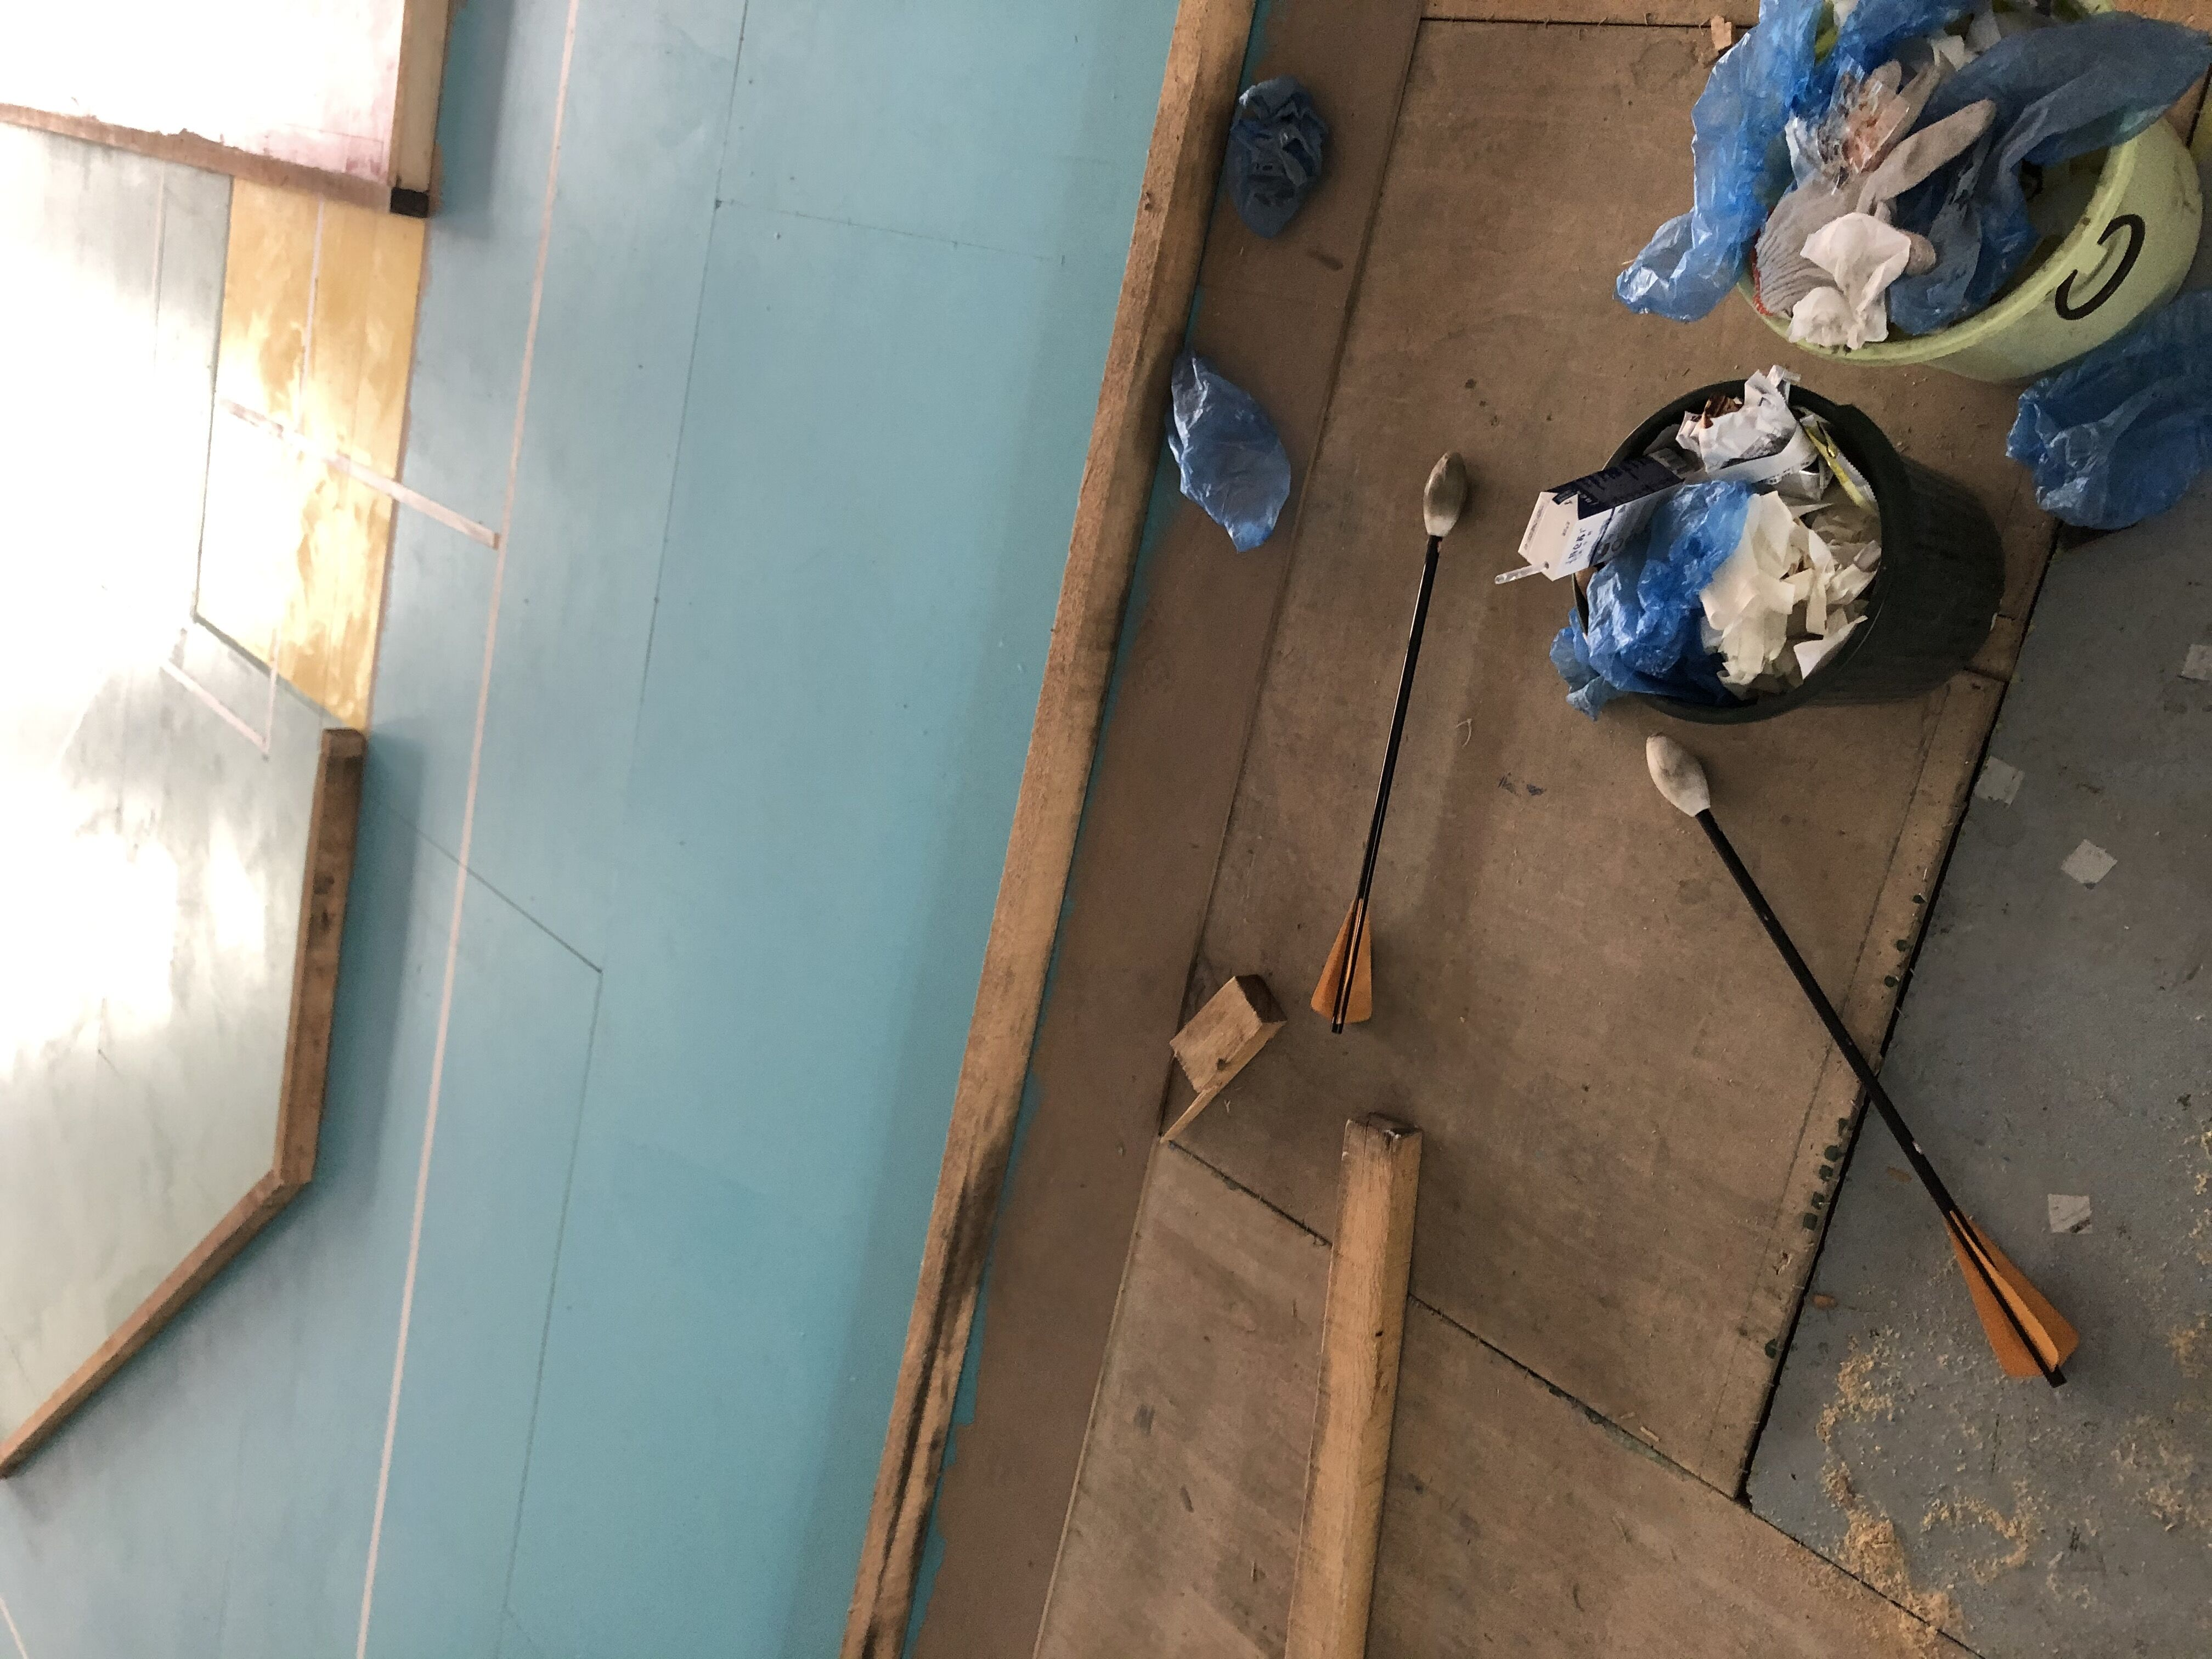arrow: (1646, 730, 2081, 1384), (1308, 450, 1475, 1032)
arrowFront: (1644, 730, 1710, 819), (1423, 450, 1468, 542)
